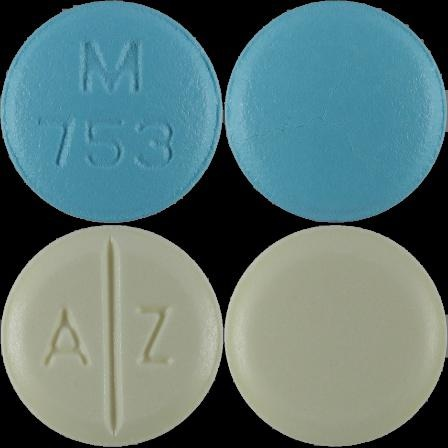0378-0781: (0, 0, 224, 224)
